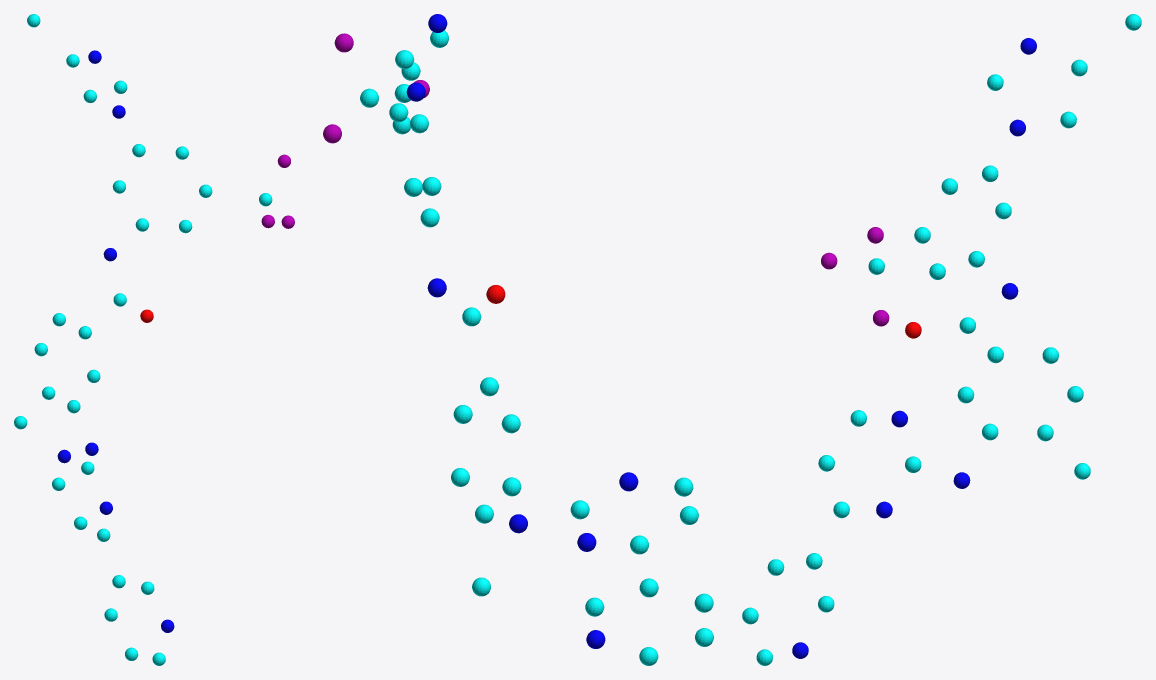
The model's file is nil_e.glb.
The picture shows the model from 3 angles, left to right: view 1: azimuth 30°, elevation 25°; view 2: azimuth 150°, elevation 25°; view 3: azimuth 270°, elevation 25°; orthographic projection. The views are drawn at different scales.
Bounding box in the file's own units: 1.11 × 2.28 × 1.24.
